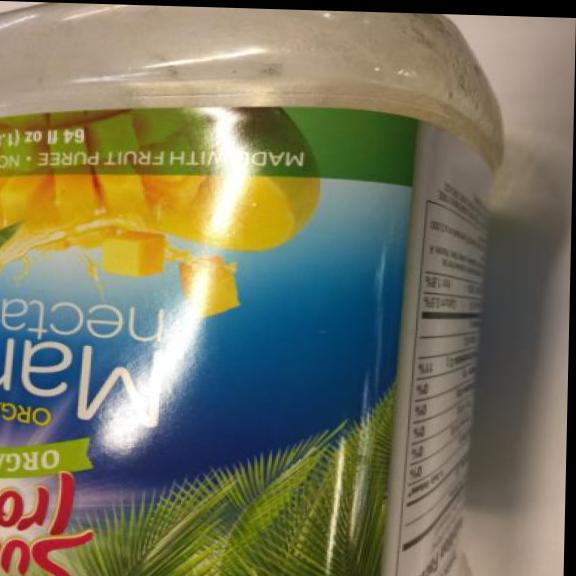Plastik: (0, 0, 517, 576)
